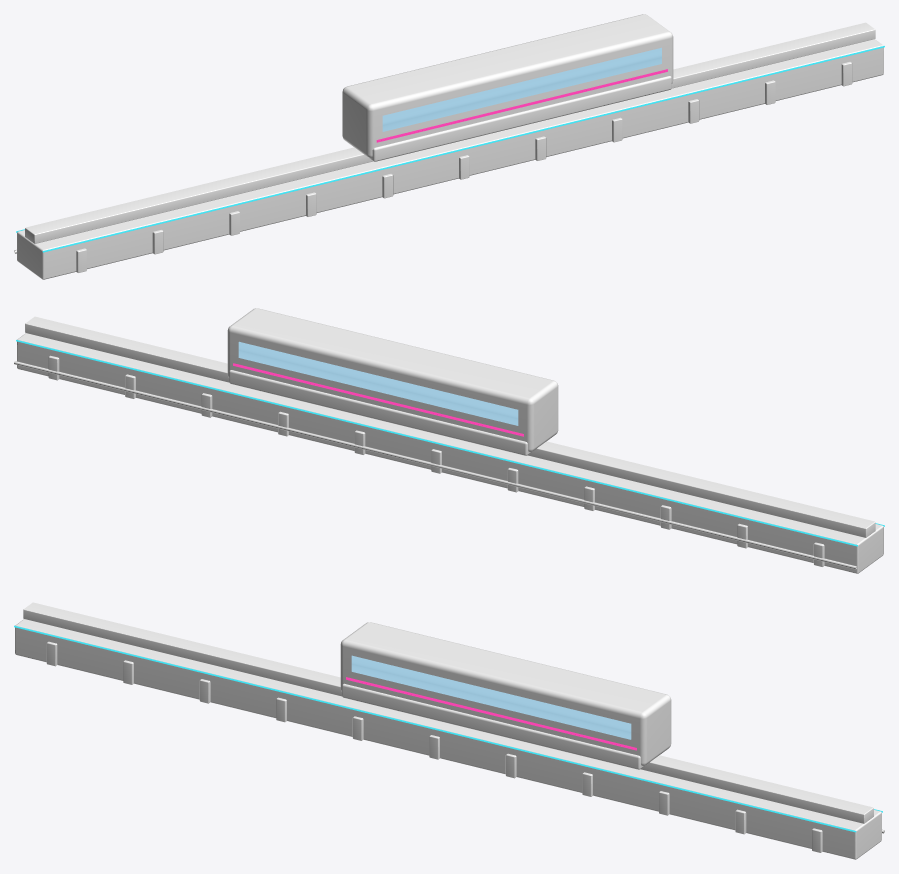
File: monorail_span.glb
The picture shows the model from 3 angles, top to bottom: view 1: azimuth 30°, elevation 25°; view 2: azimuth 150°, elevation 25°; view 3: azimuth 330°, elevation 25°; orthographic projection.
Visible parts, largest first — view 1: rail_beam, train_body, rail_top, train_windows, train_skirt, rail_strip, train_stripe; view 2: rail_beam, train_body, rail_top, train_windows, train_skirt, rail_cable, rail_strip.001, train_stripe; view 3: rail_beam, train_body, rail_top, train_windows, train_skirt, rail_strip, train_stripe.
Boxes of the visible parts, bbox=[...] form: rail_beam: bbox=[17, 39, 883, 279]; train_body: bbox=[342, 14, 673, 158]; rail_top: bbox=[25, 22, 875, 243]; train_windows: bbox=[382, 47, 661, 131]; train_skirt: bbox=[353, 76, 671, 161]; rail_strip: bbox=[42, 46, 884, 252]; train_stripe: bbox=[376, 69, 667, 142]; rail_beam: bbox=[17, 333, 883, 573]; train_body: bbox=[227, 308, 558, 452]; rail_top: bbox=[25, 316, 875, 537]; train_windows: bbox=[238, 341, 518, 425]; train_skirt: bbox=[229, 370, 555, 455]; rail_cable: bbox=[14, 361, 856, 569]; rail_strip.001: bbox=[16, 340, 857, 546]; train_stripe: bbox=[233, 363, 523, 436]; rail_beam: bbox=[15, 619, 881, 859]; train_body: bbox=[340, 622, 671, 765]; rail_top: bbox=[23, 602, 873, 823]; train_windows: bbox=[351, 655, 631, 739]; train_skirt: bbox=[342, 683, 661, 769]; rail_strip: bbox=[14, 625, 856, 832]; train_stripe: bbox=[346, 677, 636, 750].
Bounding box in the file's own units: 44 × 4.75 × 2.81.
